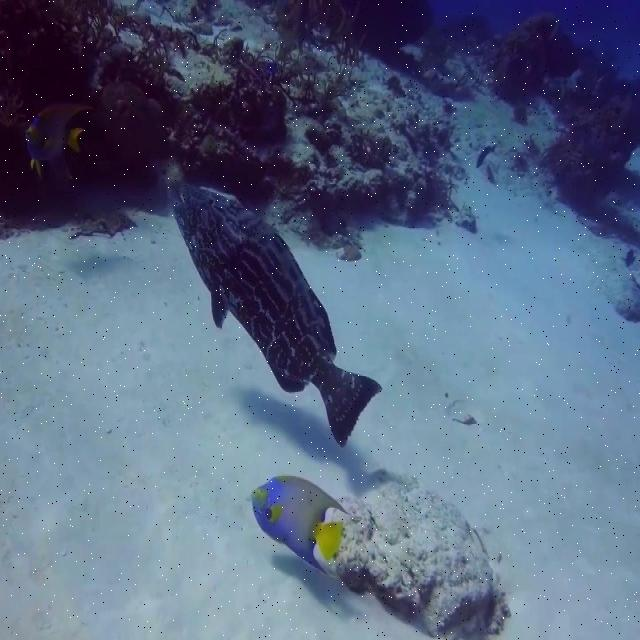fish: (173, 180, 382, 446), (252, 471, 349, 571), (28, 103, 90, 175)
sea-floor: (328, 470, 507, 639)
